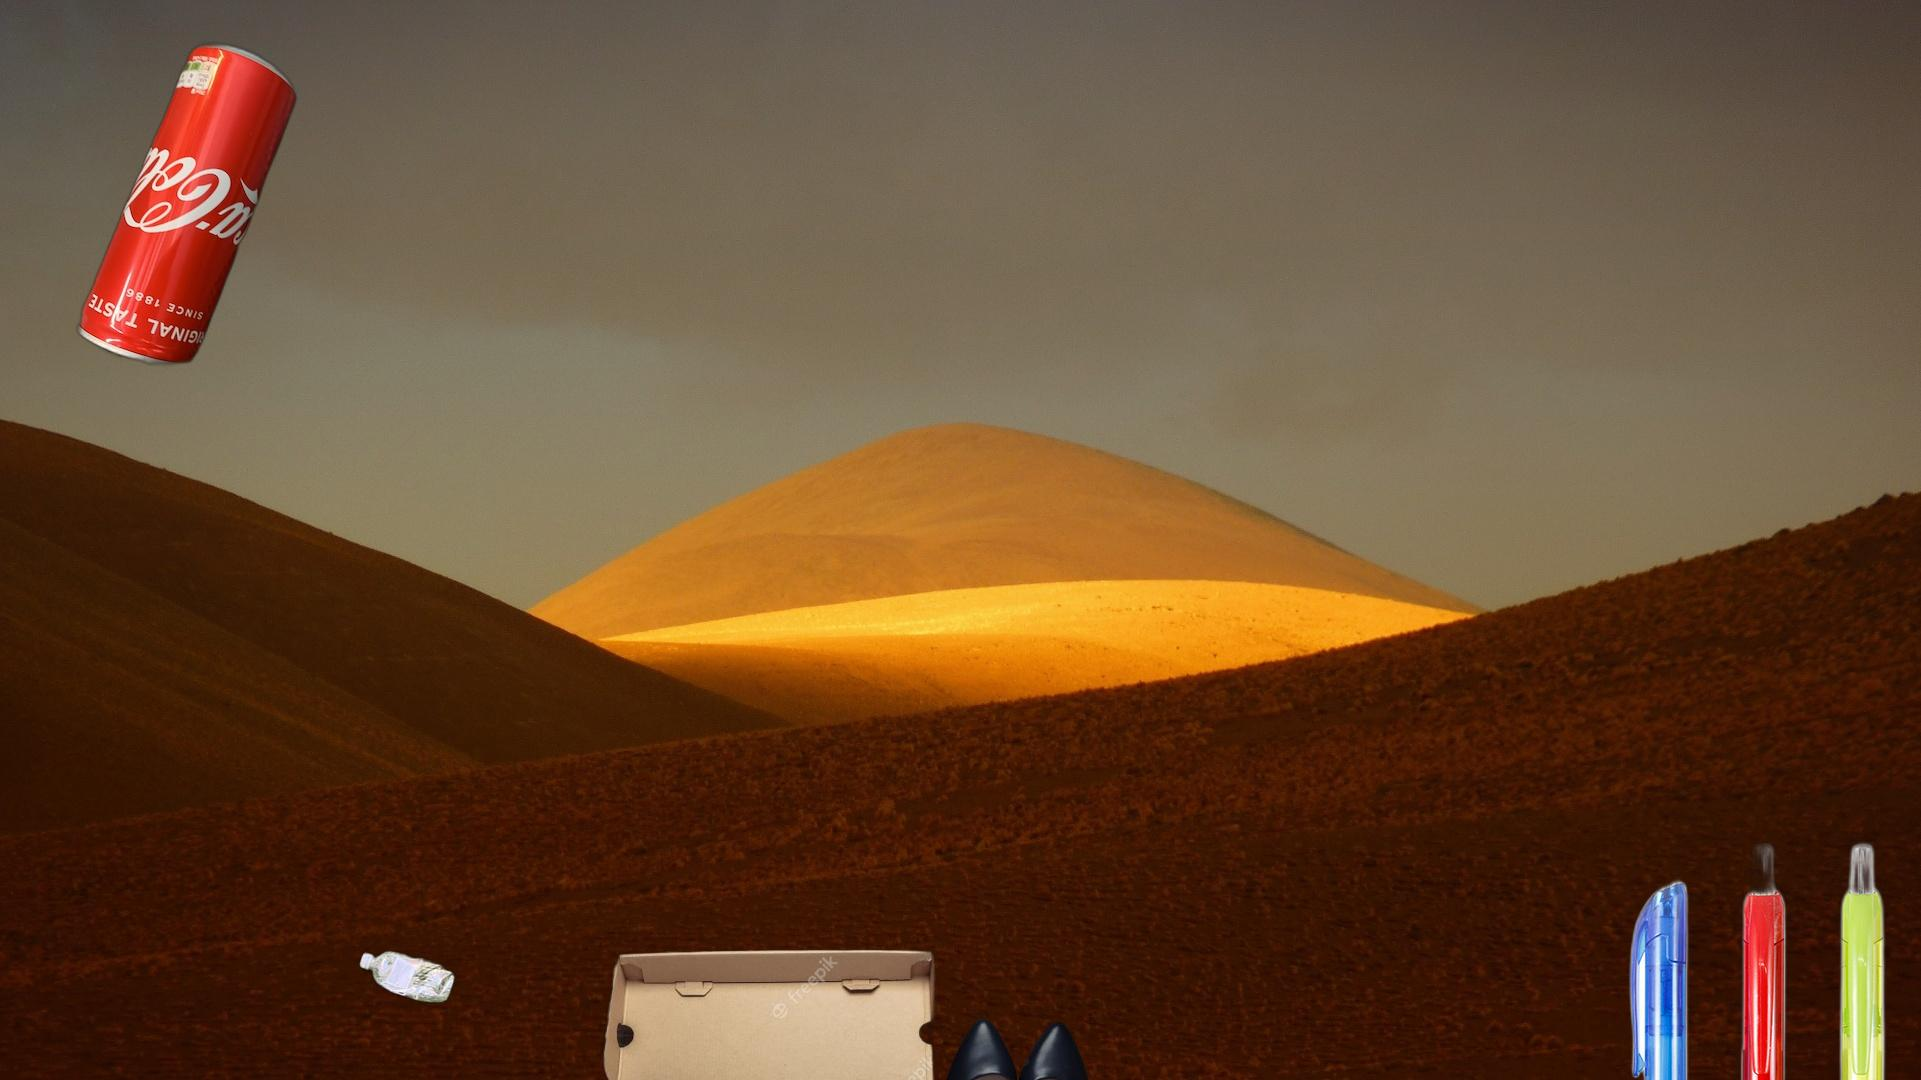metal-cans: (73, 38, 301, 371)
penholder: (1450, 836, 1921, 1080)
plastic-bottles: (65, 944, 459, 1080)
trashbox-cardboard: (598, 947, 1096, 1080)
